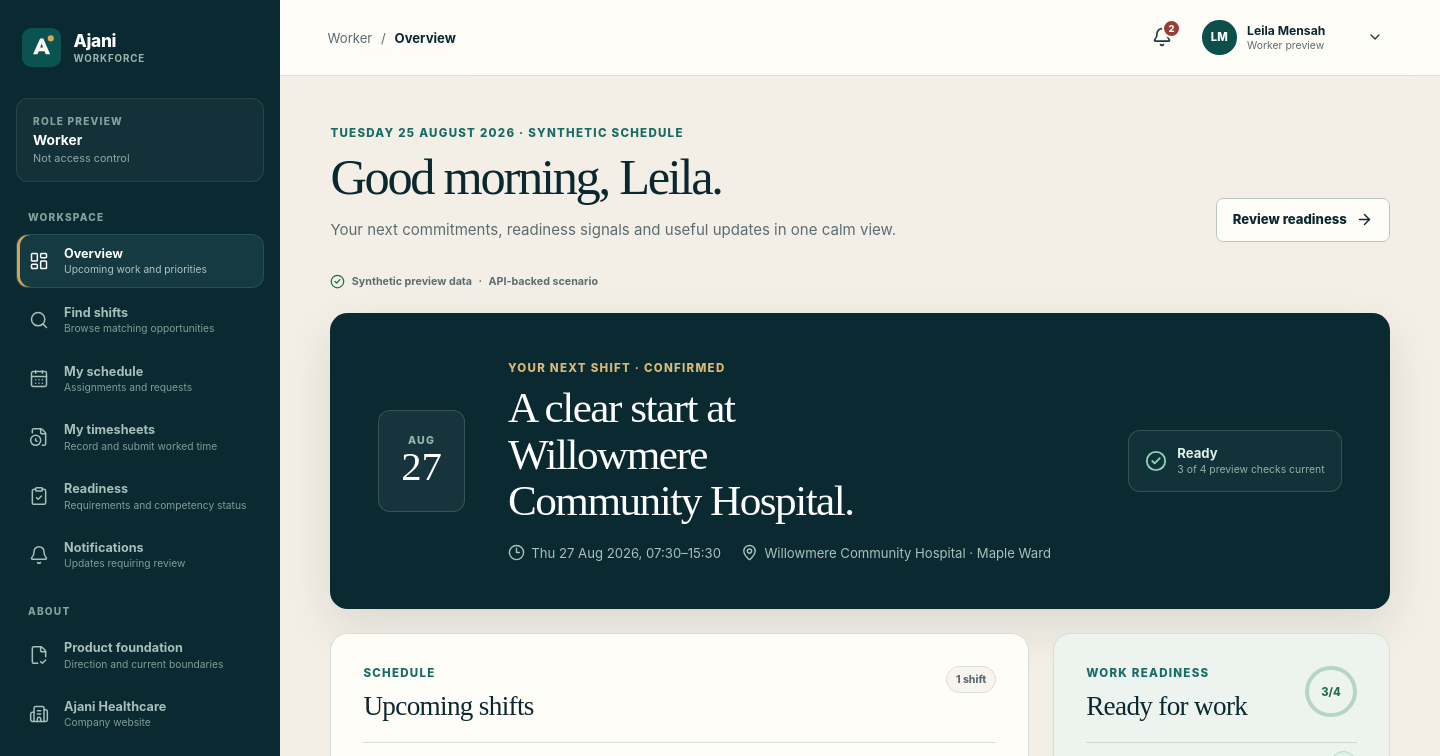
Test: Ajani application shell › starts a new role route at the top and moves focus to main content
The width and height of the screenshot is (1440, 756).
(page scrolled)
What coordinates should you click on to do the following:
click the button "LM Leila Mensah Worker preview"
I would click on:
 (1292, 38)
Its box is left=1192, top=14, right=1392, bottom=61.
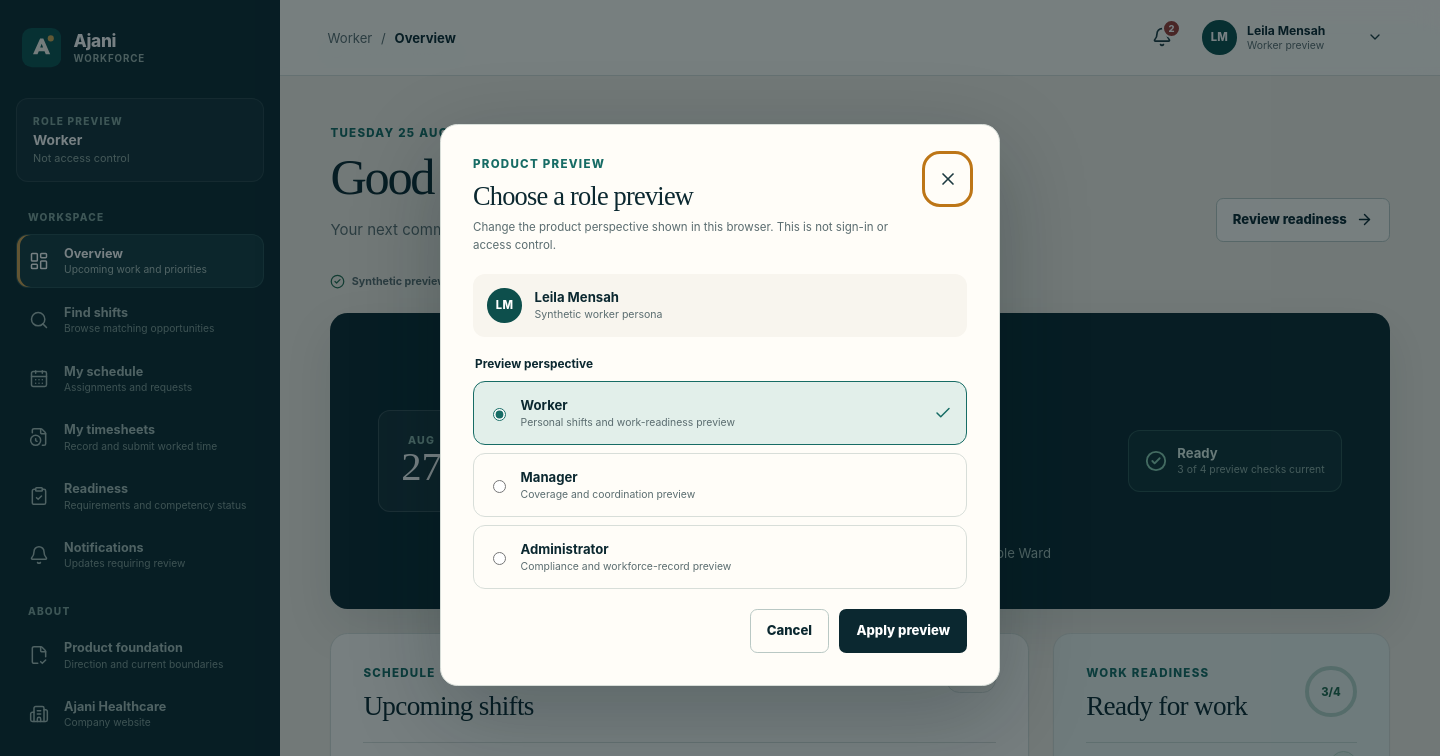
What coordinates should you click on to do the following:
click the radio button labelled "Administrator Compliance and workforce-record preview"
I would click on:
 (499, 559)
Its box is left=493, top=552, right=506, bottom=565.
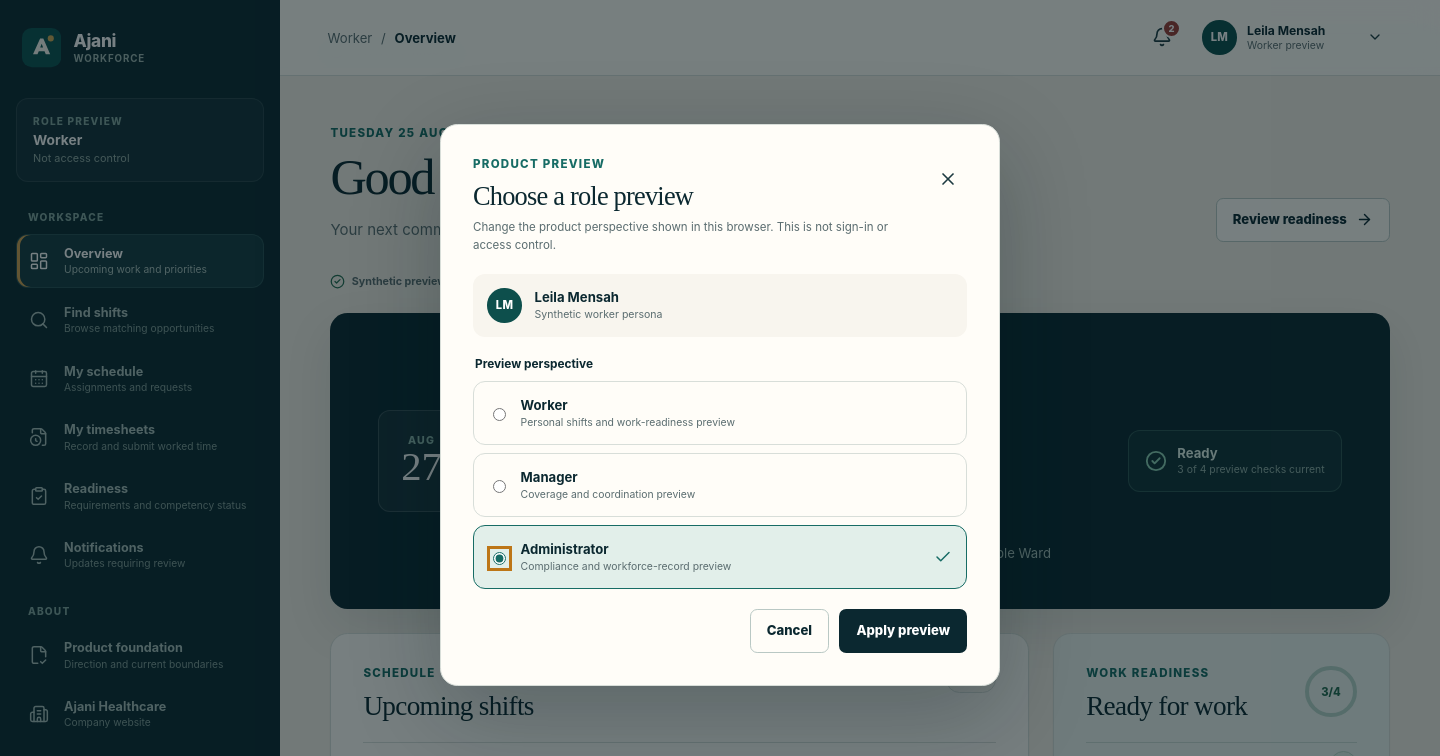
What coordinates should you click on to do the following:
click the button "Apply preview"
I would click on:
 (903, 631)
Its box is left=839, top=609, right=967, bottom=653.
(page scrolled)
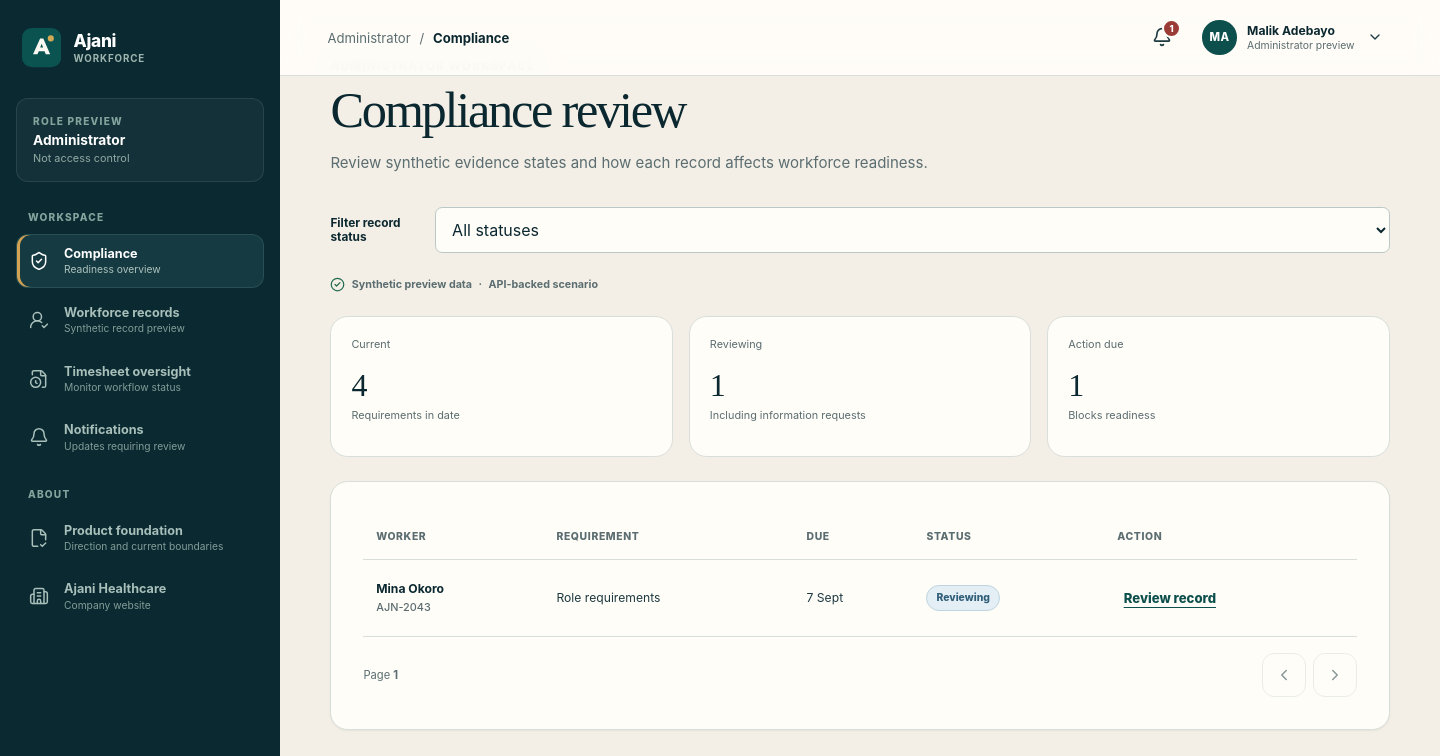
Expected: the heading "Compliance review" is shown, left=330, top=82, right=685, bottom=138
